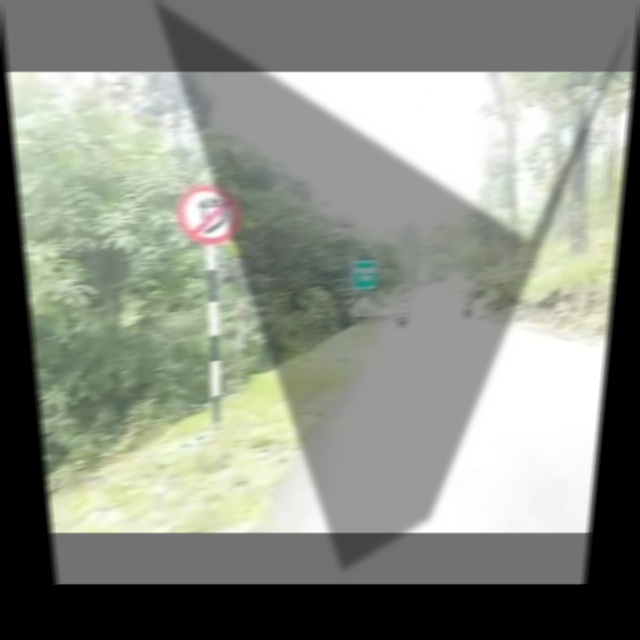Overtaking_Prohibited: (176, 184, 239, 243)
